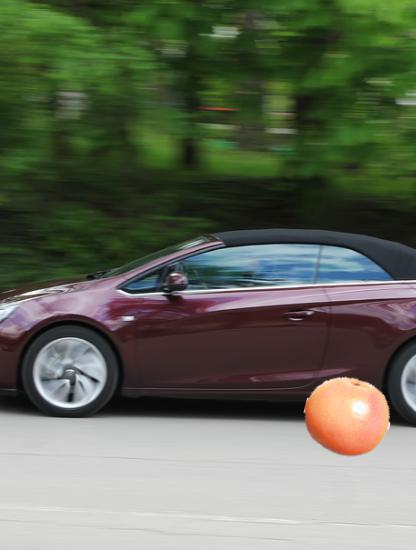Grapefruit: (304, 374, 391, 461)
